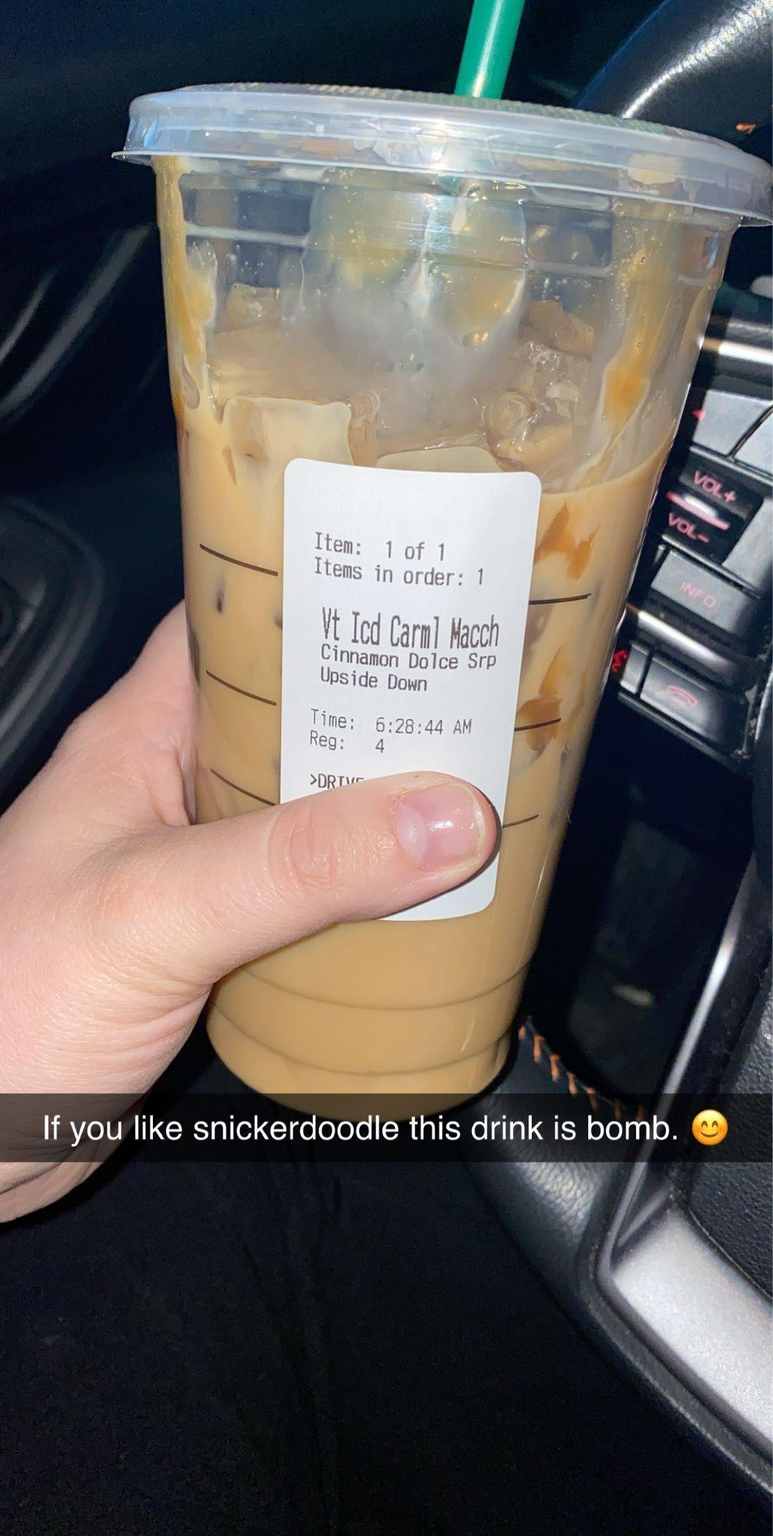cup-disposable: (111, 86, 761, 1123)
